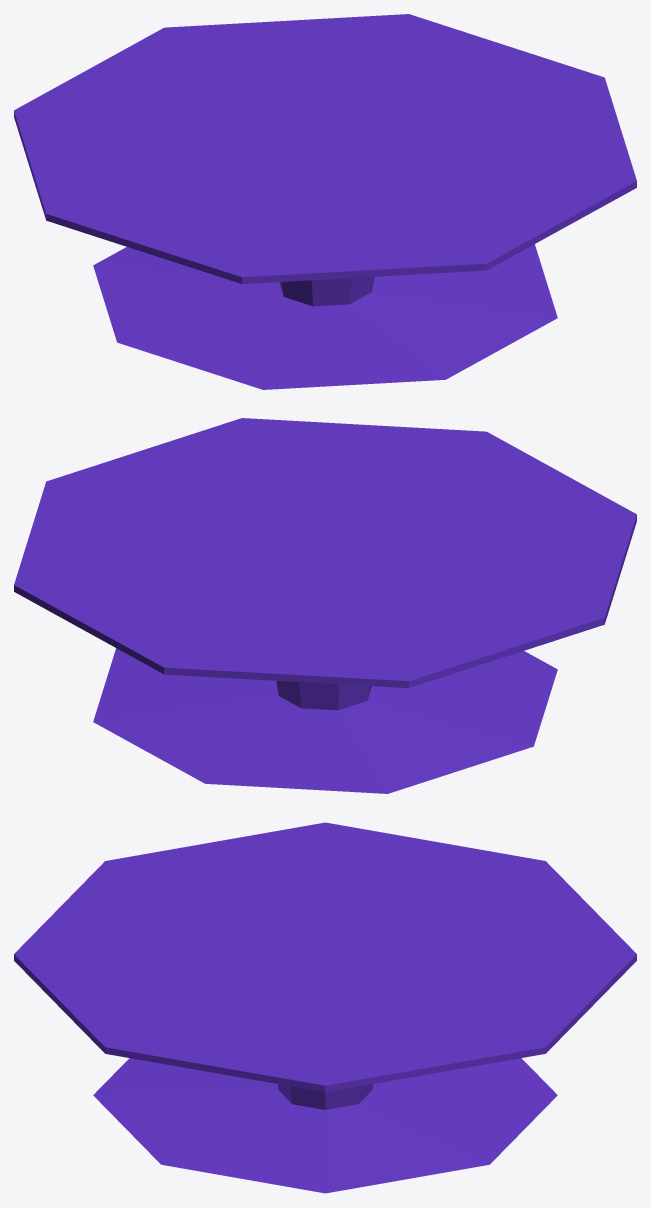
Rendered from octotable1.fbx.
3 views of the same model, one above another, from view 1: azimuth 30°, elevation 25°; view 2: azimuth 150°, elevation 25°; view 3: azimuth 270°, elevation 25° (orthographic). The views are drawn at different scales.
Visible parts, largest first — view 1: Cylinder; view 2: Cylinder; view 3: Cylinder.
Part boxes in pixels (left/top/right/bottom): Cylinder: left=14, top=14, right=636, bottom=389; Cylinder: left=14, top=418, right=636, bottom=793; Cylinder: left=14, top=822, right=636, bottom=1193.
Bounding box in the file's own units: 400 × 100 × 400.
